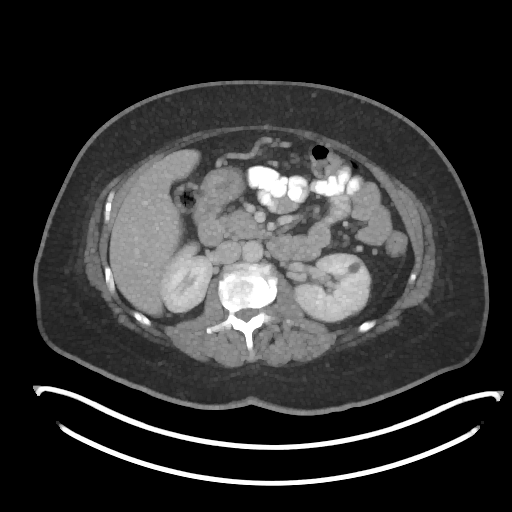Lesion: (346, 259, 363, 275)
